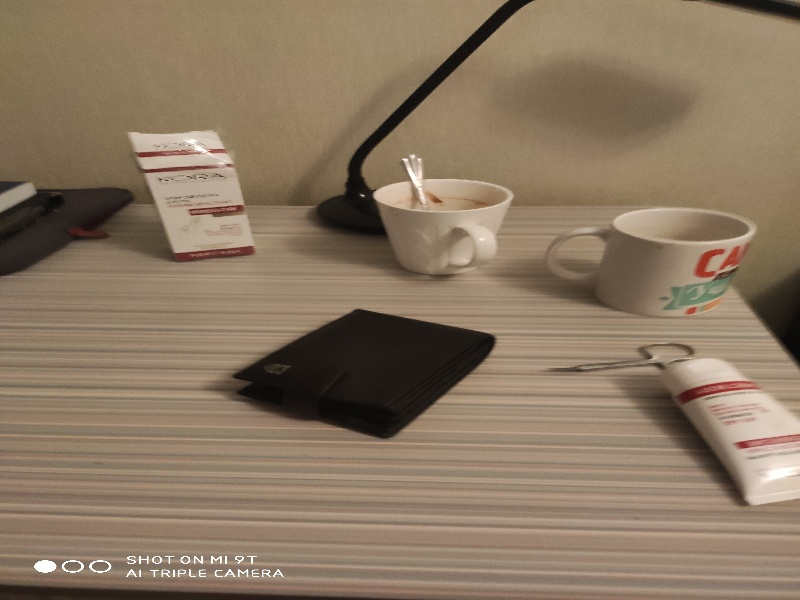wallet: (218, 305, 505, 441)
